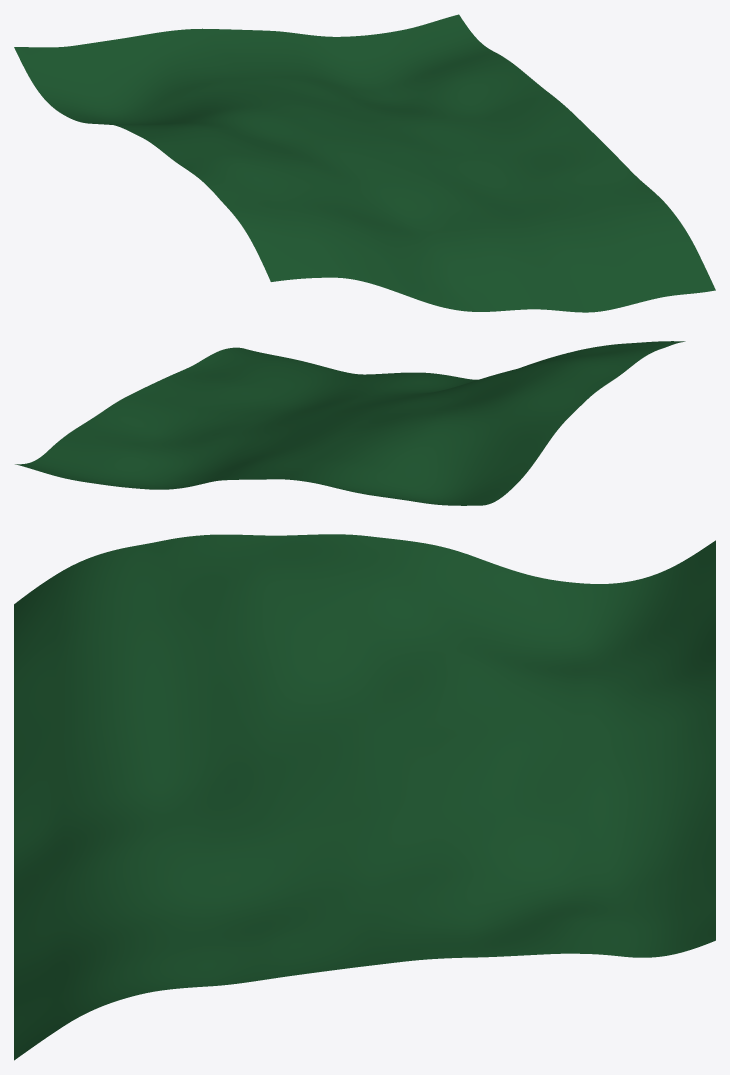
The model's file is payo_land_xm3_y0.glb.
3 renders of one model, top to bottom at view 1: azimuth 30°, elevation 25°; view 2: azimuth 150°, elevation 25°; view 3: azimuth 270°, elevation 25°, orthographic. The views are drawn at different scales.
Visible parts, largest first — view 1: payo_land_xm3_y0; view 2: payo_land_xm3_y0; view 3: payo_land_xm3_y0.
Boxes of the visible parts, <box> form: payo_land_xm3_y0: <box>14,14,715,312</box>; payo_land_xm3_y0: <box>15,341,685,505</box>; payo_land_xm3_y0: <box>14,534,715,1060</box>.
Bounding box in the file's own units: 255 × 92.07 × 255.
